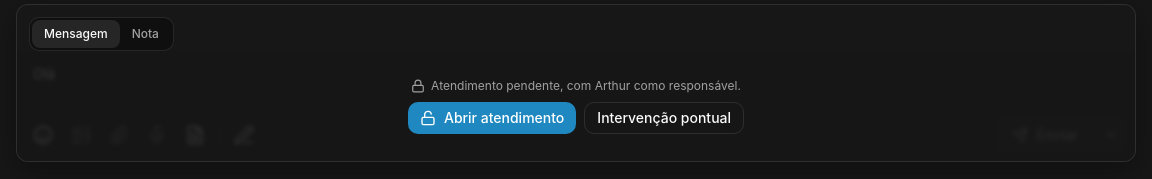
Test: Composer › pendente e fechado: abrir ou intervir; a nota segue livre
Later steps or results of the test are not shown.
Expected: the text "Atendimento pendente, com Arthur como responsável." is shown, [411,78,741,94]
Expected: the text box named "mensagem" is disabled, [17,51,1135,117]
What coordinates should you click on to do the following:
click the button "Intervenção pontual"
I would click on:
 (664, 118)
Its box is [584,102,744,134].
What coordinates should you click on to do the following:
click the button "Abrir atendimento"
I would click on:
 (492, 118)
Its box is [408,102,576,134].
What coordinates should you click on to do the following:
click the button "Nota"
I would click on:
 (145, 34)
Its box is [120,20,171,48].
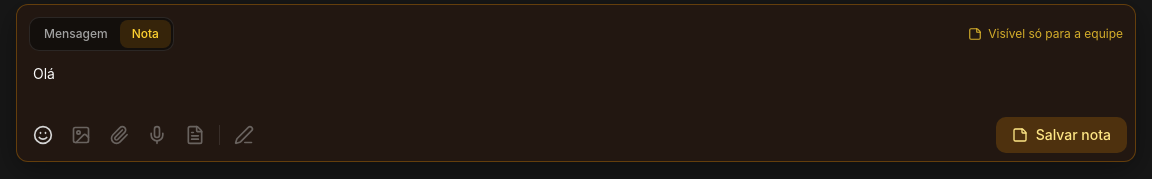
Expected: the button "Abrir atendimento" is gone
